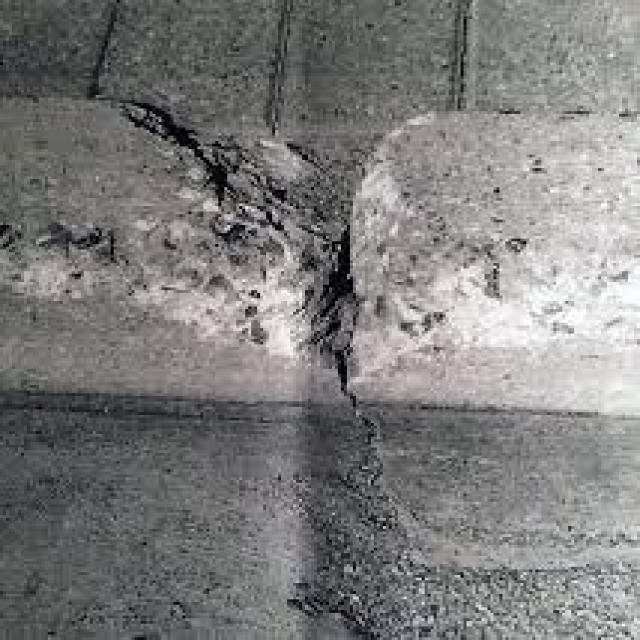curb: (9, 94, 348, 397), (348, 116, 632, 405)
